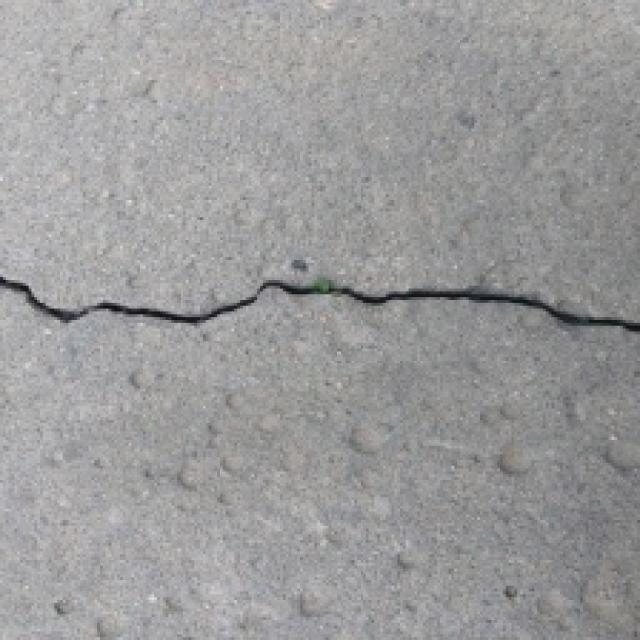crack: (0, 226, 640, 354)
